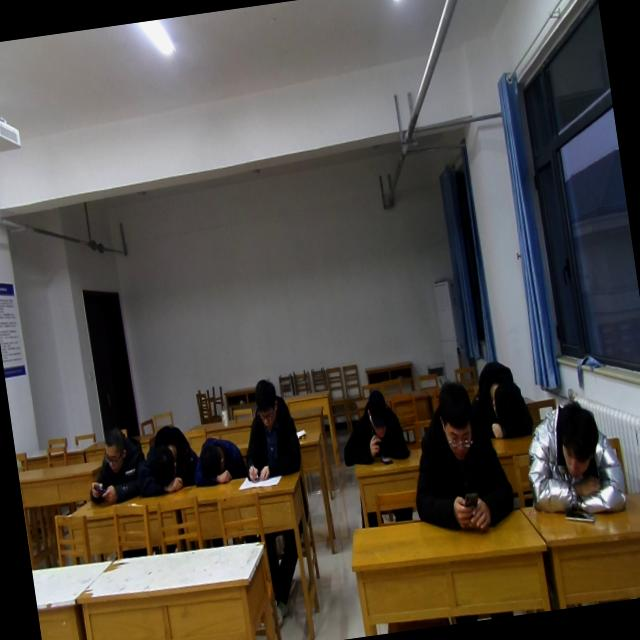bow: (517, 393, 631, 529), (333, 382, 412, 472), (466, 354, 540, 446), (78, 422, 151, 508), (132, 421, 206, 498), (188, 431, 250, 489)
down: (431, 376, 479, 461), (248, 374, 284, 432), (360, 385, 392, 440), (97, 421, 128, 475)
sit: (398, 372, 520, 544), (235, 375, 306, 485)
